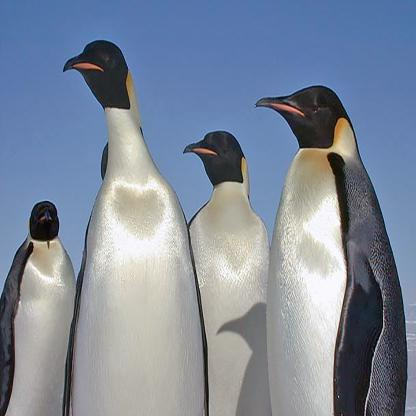Penguin: (58, 25, 219, 415), (242, 70, 415, 415), (167, 112, 291, 415), (0, 184, 85, 415)
